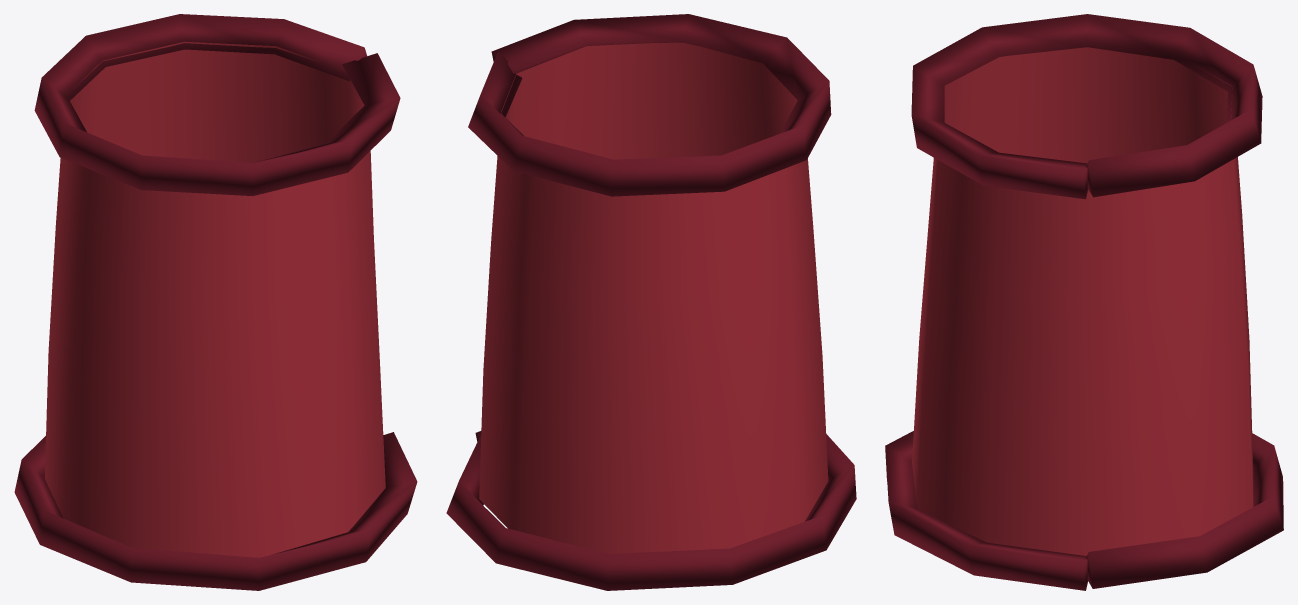
File: crimtane_armor_bracer.L.glb
The picture shows the model from 3 angles, left to right: view 1: azimuth 30°, elevation 25°; view 2: azimuth 150°, elevation 25°; view 3: azimuth 270°, elevation 25°; orthographic projection.
Parts seen in each view (by area): view 1: crimtane_armor_bracer.L; view 2: crimtane_armor_bracer.L; view 3: crimtane_armor_bracer.L.
Part boxes in pixels (bbox=[...]): crimtane_armor_bracer.L: bbox=[14, 14, 417, 590]; crimtane_armor_bracer.L: bbox=[446, 14, 856, 590]; crimtane_armor_bracer.L: bbox=[885, 14, 1283, 590].
Bounding box in the file's own units: 0.1504 × 0.1719 × 0.1471.
